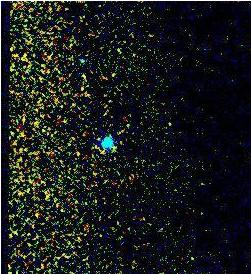star: (154, 110, 184, 140)
